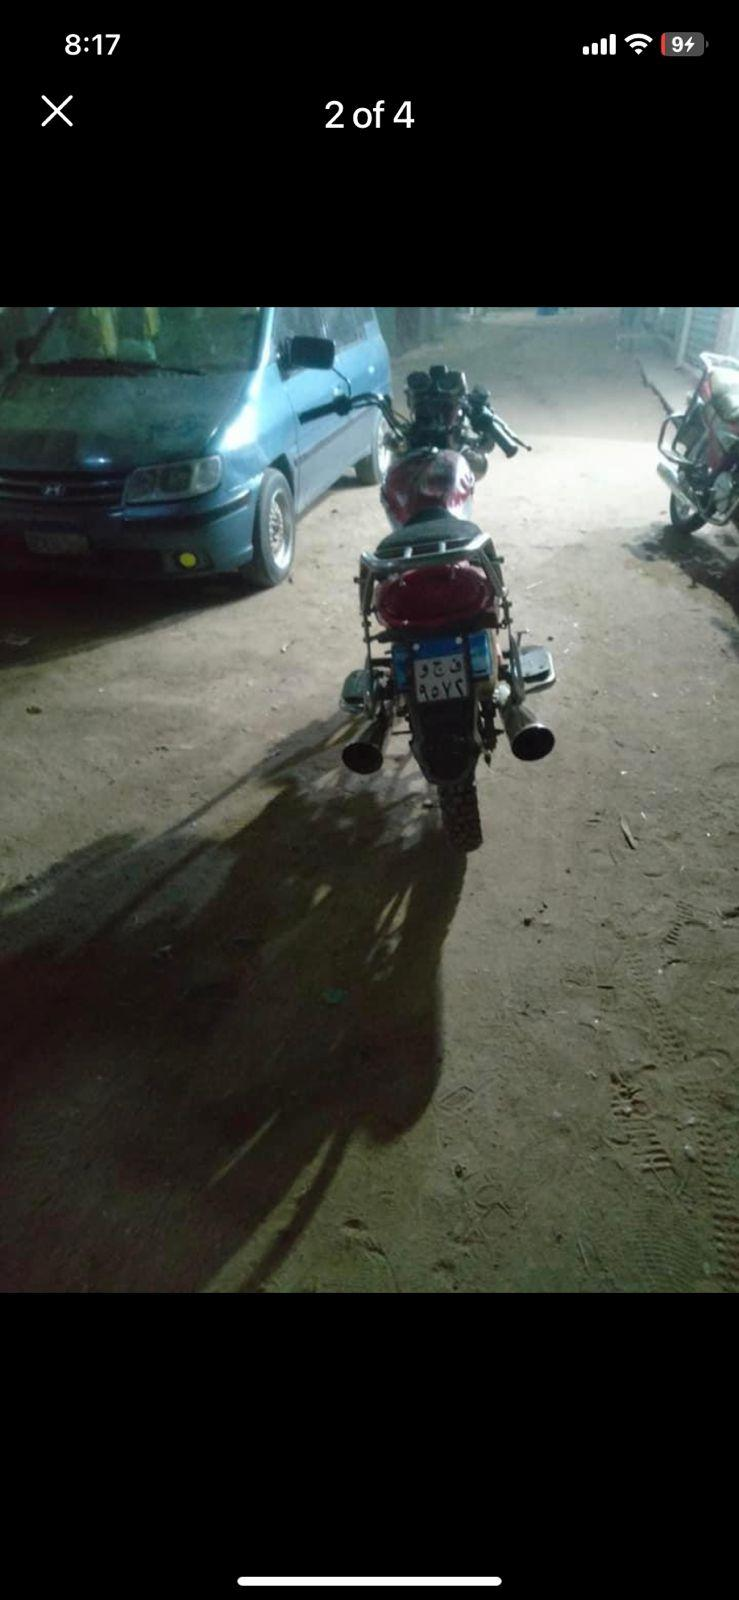License Plate: (412, 641, 474, 703)
